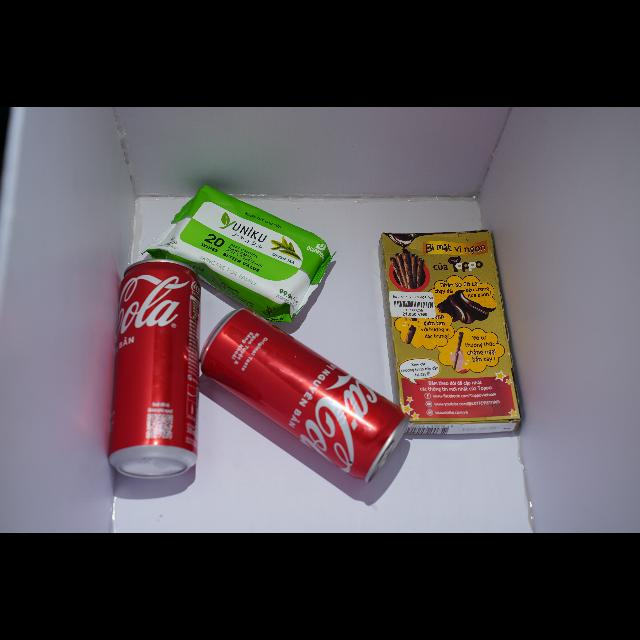banh_toppo_socola: (380, 230, 520, 434)
coca_cola: (201, 309, 409, 482), (108, 261, 200, 480)
khan_giay: (141, 186, 332, 323)
